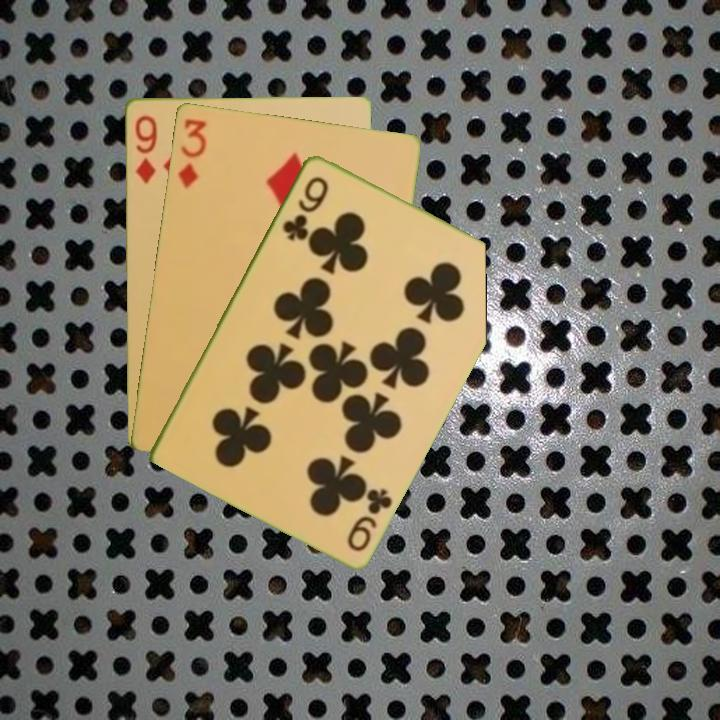3d: (174, 115, 209, 191)
9c: (278, 172, 332, 244), (343, 484, 395, 554)
9d: (131, 111, 159, 186)
